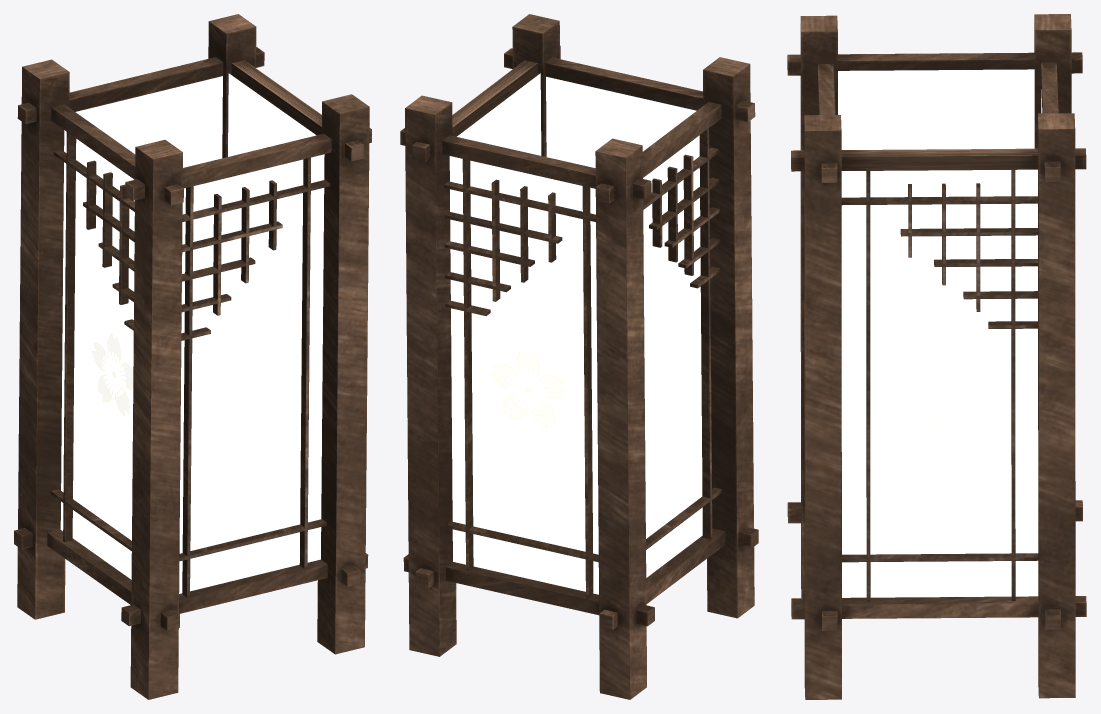
Rendered from andon.glb.
The picture shows the model from 3 angles, left to right: view 1: azimuth 30°, elevation 25°; view 2: azimuth 150°, elevation 25°; view 3: azimuth 270°, elevation 25°; orthographic projection. The views are drawn at different scales.
Bounding box in the file's own units: 0.2876 × 0.6025 × 0.2847.
2 materials, 2 textured.
